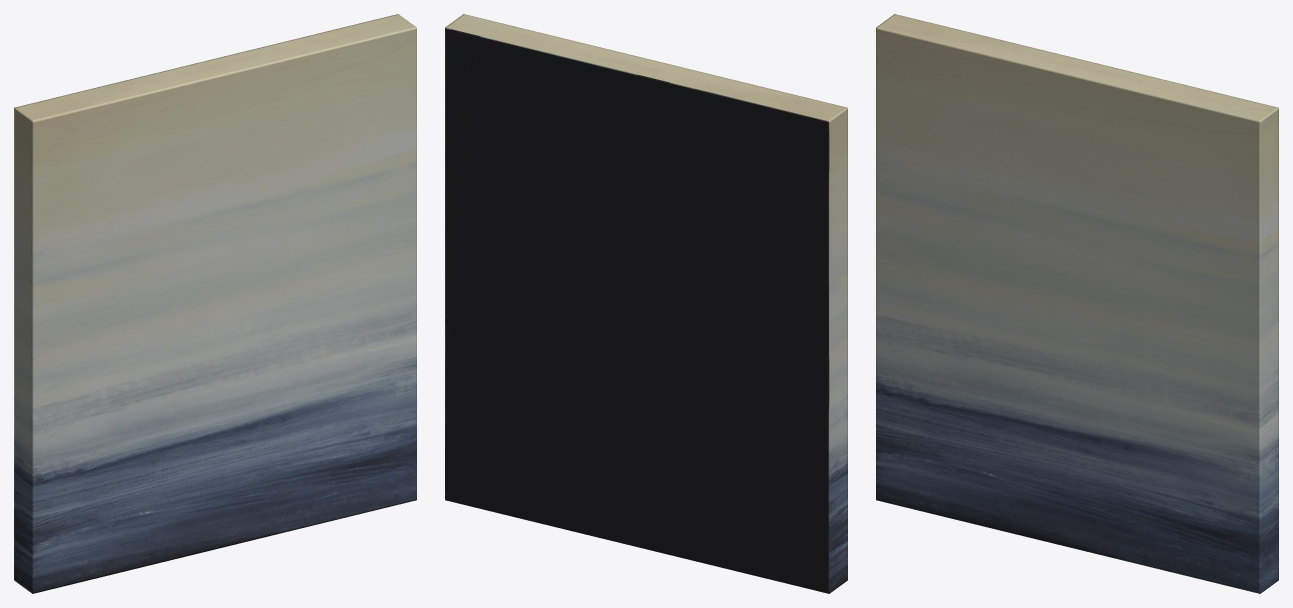
File: B073P13JKT.glb
The picture shows the model from 3 angles, left to right: view 1: azimuth 30°, elevation 25°; view 2: azimuth 150°, elevation 25°; view 3: azimuth 330°, elevation 25°; orthographic projection.
Visible parts, largest first — view 1: RootNode; view 2: RootNode; view 3: RootNode.
Part boxes in pixels (x1,y1,x2,y2): RootNode: (14, 14, 416, 593); RootNode: (445, 14, 847, 593); RootNode: (876, 14, 1278, 593).
Bounding box in the file's own units: 0.4346 × 0.5108 × 0.0365.
Materials: 1 (1 with a texture image).
